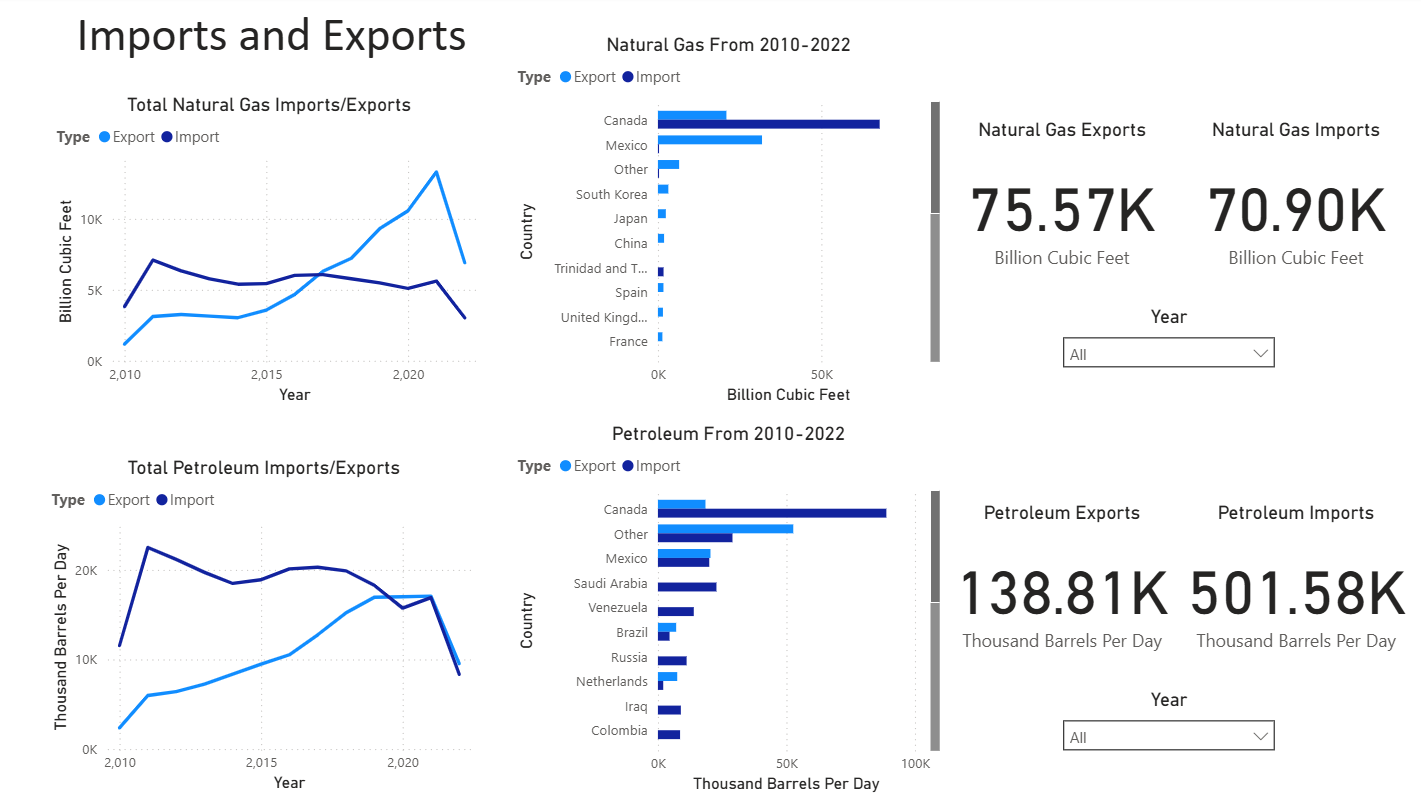

This screenshot's page, from the dashboard's own definition file:
{"tool":"powerbi","page":{"name":"International Imports/Exports","canvas":[1280,720],"ordinal":1},"visuals":[{"type":"slicer","title":"Year","fields":{"Values":["year_table.Year"]},"box":[948.3,277.2,210.1,105],"z":0},{"type":"lineChart","title":"Total Petroleum Imports/Exports","fields":{"Category":["combined_foreign_petro.Year"],"Y":["Sum(combined_foreign_petro.Value)"],"Series":["combined_foreign_petro.Type"]},"box":[44.7,413.4,391,306.4],"z":1000},{"type":"lineChart","title":"Total Natural Gas Imports/Exports","fields":{"Category":["combined_foreign_nat_gas.Year"],"Y":["Sum(combined_foreign_nat_gas.Value)"],"Series":["combined_foreign_nat_gas.Type"]},"box":[49.4,87.1,391.4,283.7],"z":2000},{"type":"clusteredBarChart","title":"Natural Gas From 2010-2022","fields":{"Category":["combined_foreign_nat_gas.Country"],"Y":["Sum(combined_foreign_nat_gas.Value)"],"Series":["combined_foreign_nat_gas.Type"]},"box":[463.2,33.2,388.7,337.6],"z":3000},{"type":"clusteredBarChart","title":"Petroleum From 2010-2022","fields":{"Category":["combined_foreign_petro.Country"],"Series":["combined_foreign_petro.Type"],"Y":["Sum(combined_foreign_petro.Value)"]},"box":[463.2,382.4,388.7,337.6],"z":4000},{"type":"card","title":"Natural Gas Exports","fields":{"Values":["Sum(Foreign_Natural_Gas_Exports.VALUE)"]},"box":[852,109.9,210.1,153.7],"z":5000},{"type":"card","title":"Natural Gas Imports","fields":{"Values":["Sum(Foreign_Natural_Gas_Imports.VALUE)"]},"box":[1062.1,109.9,210.1,153.7],"z":6000},{"type":"card","title":"Petroleum Exports","fields":{"Values":["Sum(Foreign_Petro_Exports.VALUE)"]},"box":[852,453.3,210.1,153.7],"z":7000},{"type":"card","title":"Petroleum Imports","fields":{"Values":["Sum(Foreign_Petro_Imports.VALUE)"]},"box":[1062.1,453.3,210.1,153.7],"z":8000},{"type":"slicer","title":"Year","fields":{"Values":["year_table.Year"]},"box":[948.3,621.5,210.1,78.8],"z":9000},{"type":"textbox","box":[49.6,2.9,395.9,72.9],"z":10000}]}

Visuals, with their boxes in screenshot pixels (x1, y1, x2, y2), scaled from the page's 1280x720 canvas onto the 1421x798 screenshot:
"Year" slicer: box(1053, 307, 1286, 424)
"Total Petroleum Imports/Exports" lineChart: box(50, 458, 484, 797)
"Total Natural Gas Imports/Exports" lineChart: box(55, 97, 489, 411)
"Natural Gas From 2010-2022" clusteredBarChart: box(514, 37, 946, 411)
"Petroleum From 2010-2022" clusteredBarChart: box(514, 424, 946, 797)
"Natural Gas Exports" card: box(946, 122, 1179, 292)
"Natural Gas Imports" card: box(1179, 122, 1412, 292)
"Petroleum Exports" card: box(946, 502, 1179, 673)
"Petroleum Imports" card: box(1179, 502, 1412, 673)
"Year" slicer: box(1053, 689, 1286, 776)
textbox: box(55, 3, 495, 84)
